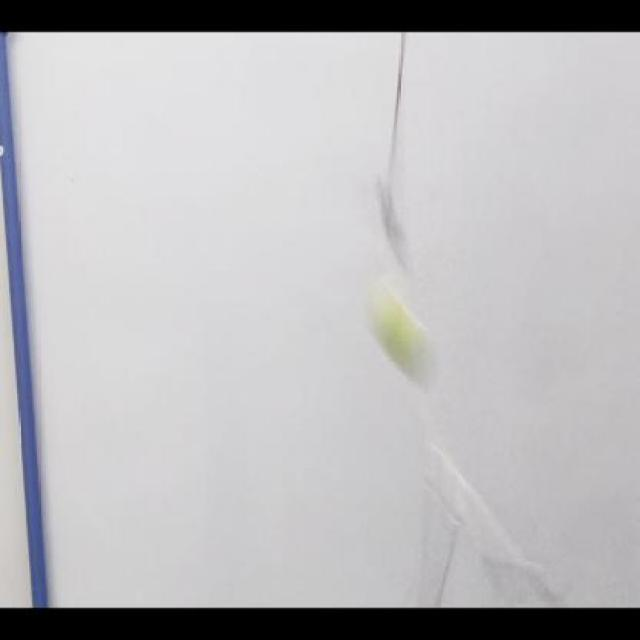baseball: (366, 279, 439, 387)
